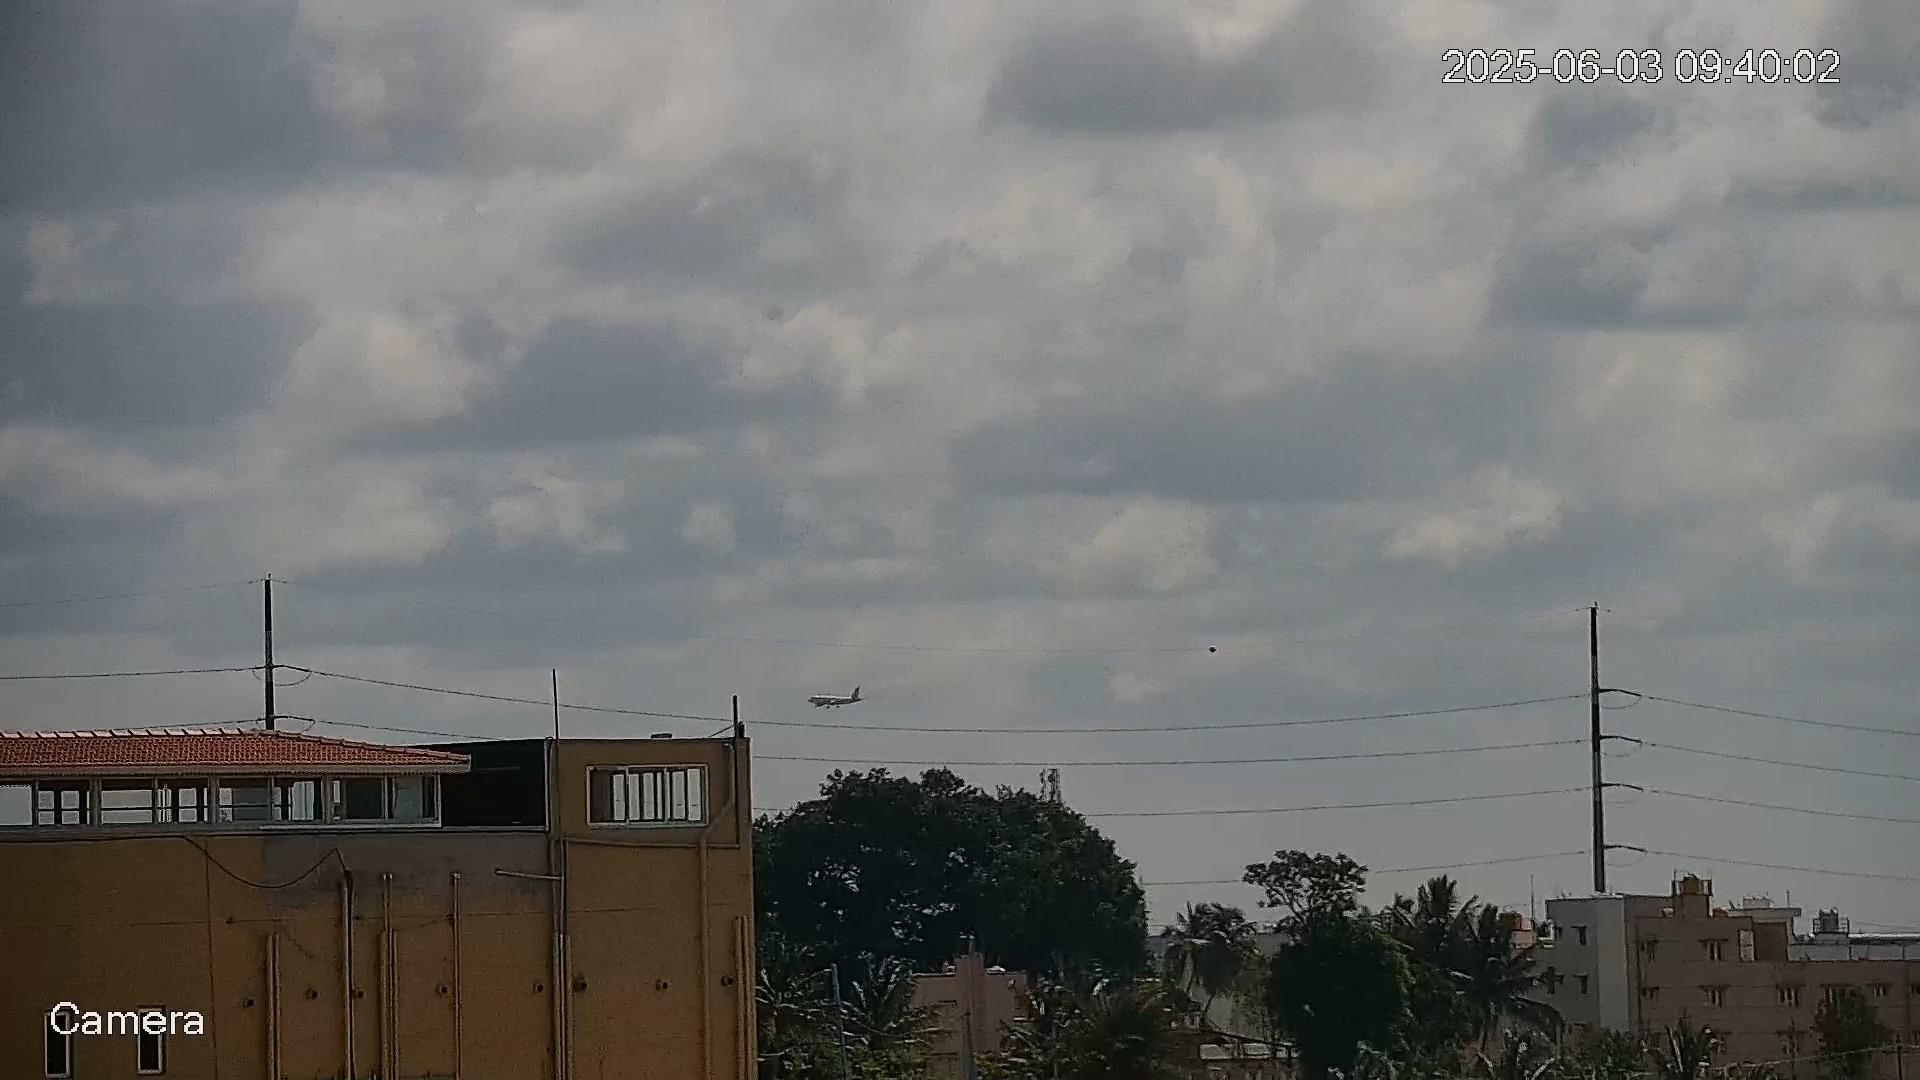Aircraft: (808, 686, 865, 709)
